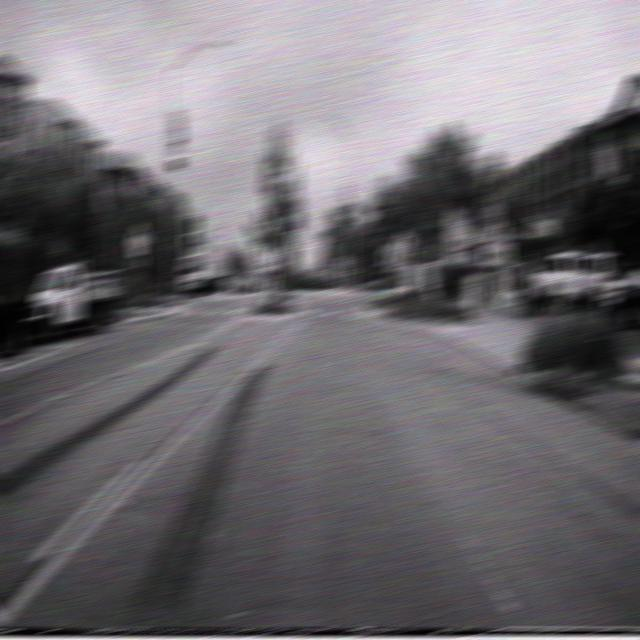pedestrianCrossing: (391, 227, 414, 262)
yield: (280, 212, 298, 234)
